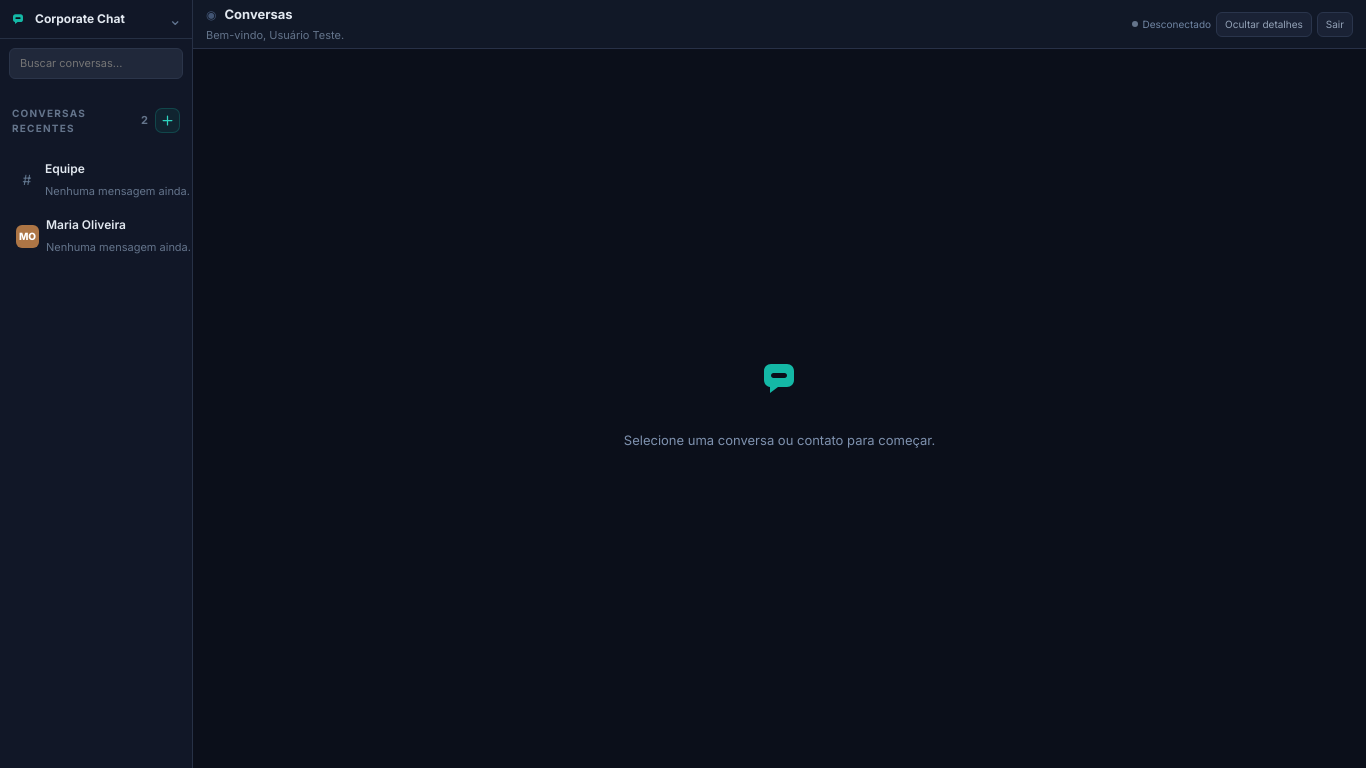
Test: deve listar e abrir grupo existente
Click the button with aria-label "Abrir grupo Equipe" at (104, 180), box top-left (9, 152), bottom-right (198, 208)
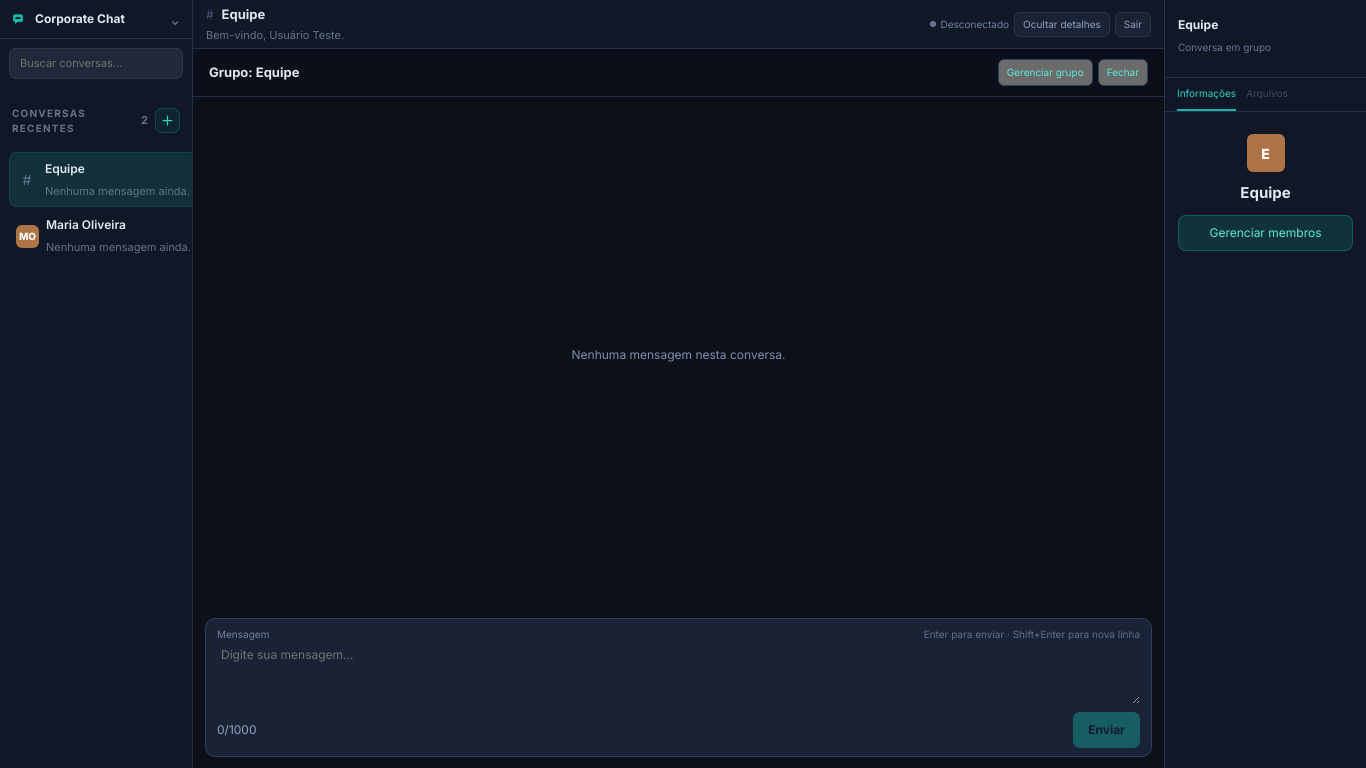
Now the heading "Grupo: Equipe" is shown, box top-left (209, 63), bottom-right (299, 82)
